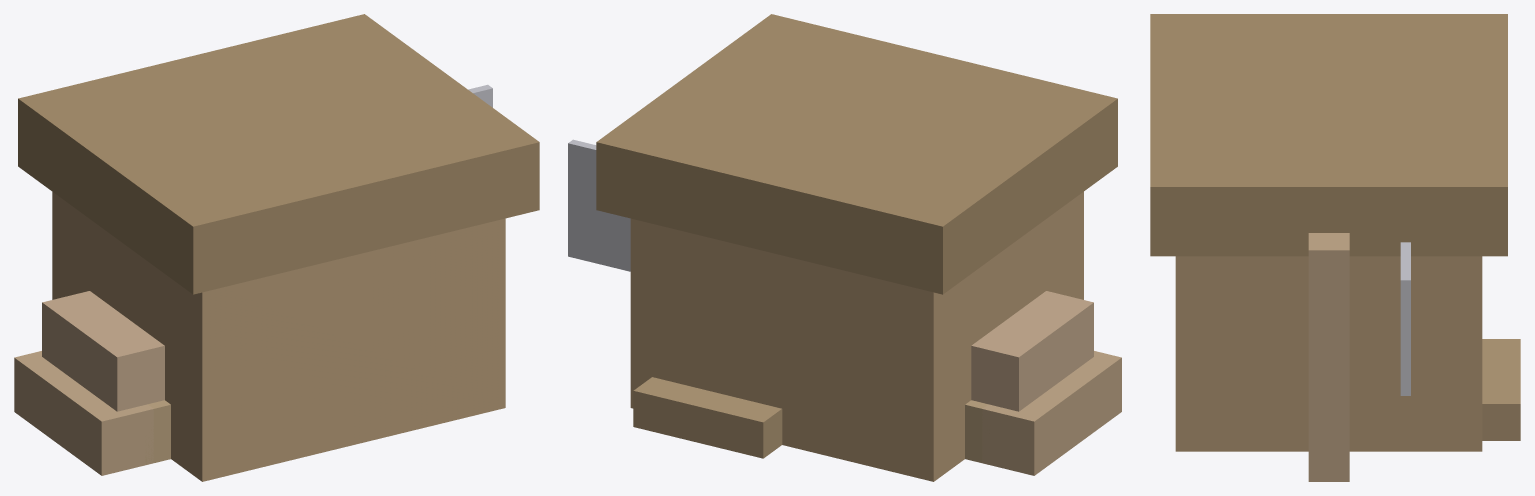
File: sawmill.glb
3 views of the same model, side by side, from view 1: azimuth 30°, elevation 25°; view 2: azimuth 150°, elevation 25°; view 3: azimuth 270°, elevation 25° (orthographic). The views are drawn at different scales.
Visible parts, largest first — view 1: Sawmill; view 2: Sawmill; view 3: Sawmill.
Boxes of the visible parts, x1,y1,x2,y2 form: Sawmill: (14, 14, 539, 481); Sawmill: (568, 14, 1121, 481); Sawmill: (1150, 14, 1520, 481).
Bounding box in the file's own units: 1.09 × 0.595 × 0.725.
